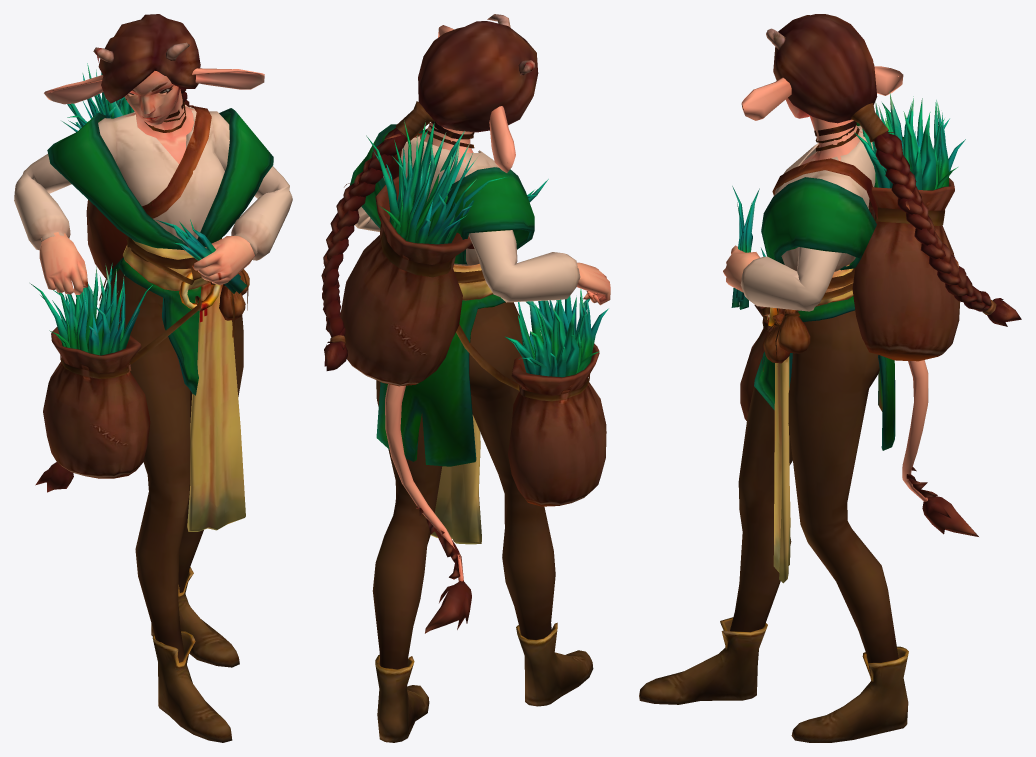
File: npc_herb.glb
3 renders of one model, left to right at view 1: azimuth 30°, elevation 25°; view 2: azimuth 150°, elevation 25°; view 3: azimuth 270°, elevation 25°, orthographic. The views are drawn at different scales.
Visible parts, largest first — view 1: Object_4, Object_3, Object_2; view 2: Object_3, Object_2, Object_4; view 3: Object_3, Object_4, Object_2.
Boxes of the visible parts, x1,y1,x2,y2 form: Object_4: [14, 56, 292, 742]; Object_3: [35, 14, 264, 662]; Object_2: [30, 63, 247, 478]; Object_3: [321, 14, 610, 669]; Object_2: [340, 120, 608, 506]; Object_4: [350, 121, 593, 742]; Object_3: [723, 14, 1021, 677]; Object_4: [639, 121, 944, 742]; Object_2: [731, 91, 965, 420].
Bounding box in the file's own units: 6.24 × 15.93 × 8.05.
3 materials, 3 textured.
